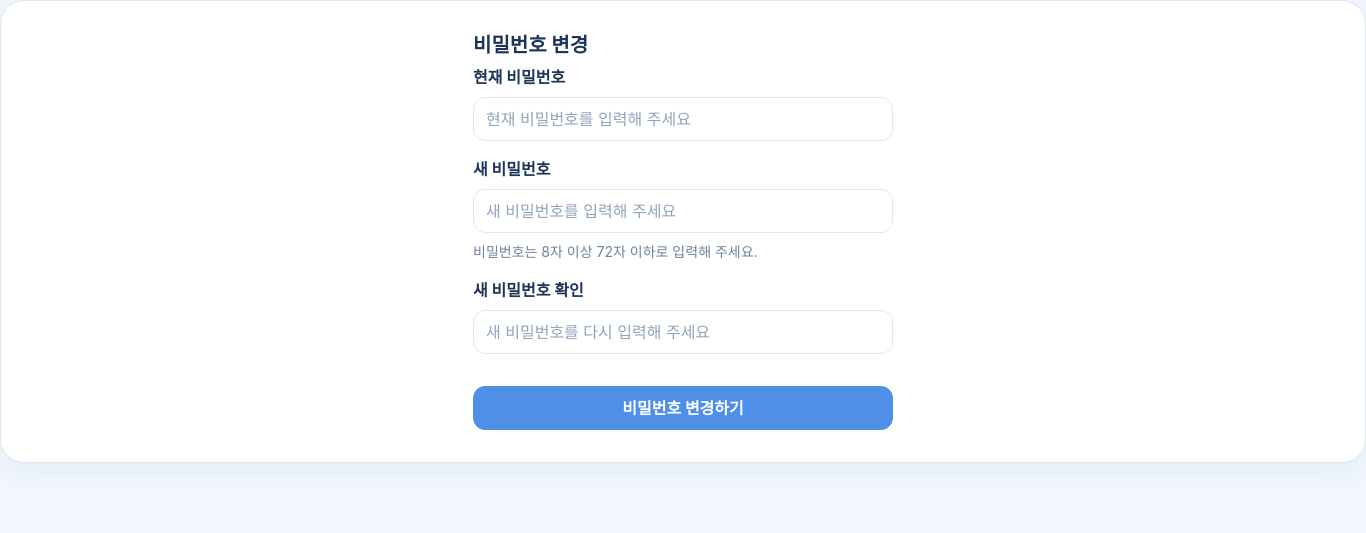
PasswordSettingsView › clears the form and shows a success alert after changing the password
In the password field with id "current-password": (683, 119) [473, 97, 893, 141], type "current-password"
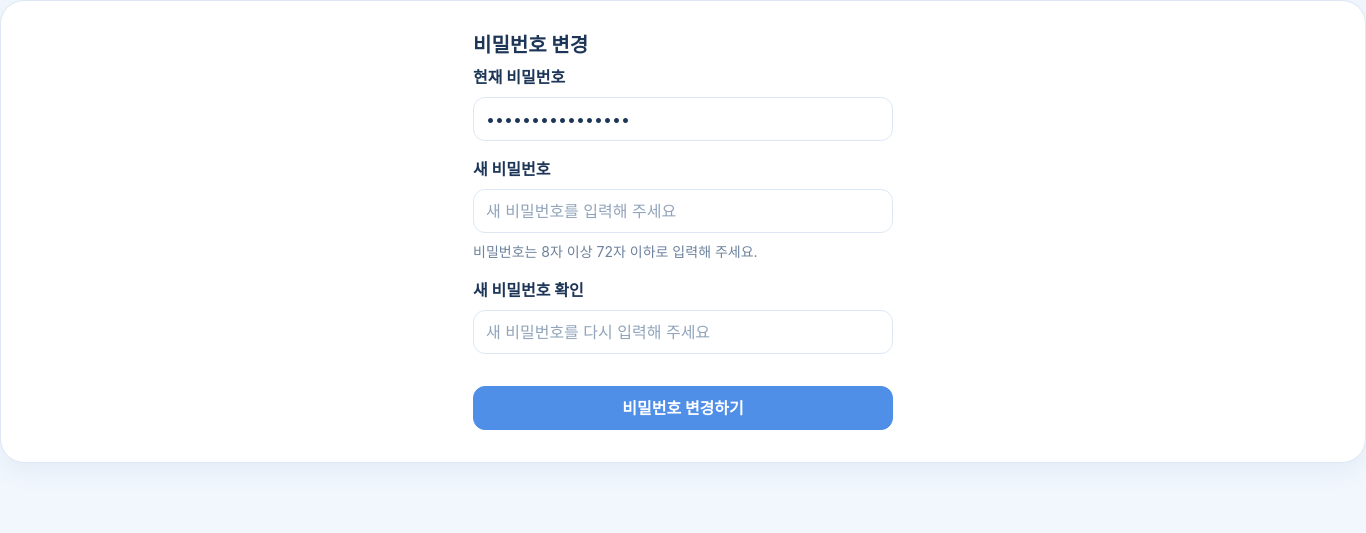
In the password field with id "new-password": (683, 211) [473, 189, 893, 233], type "new-password-123"
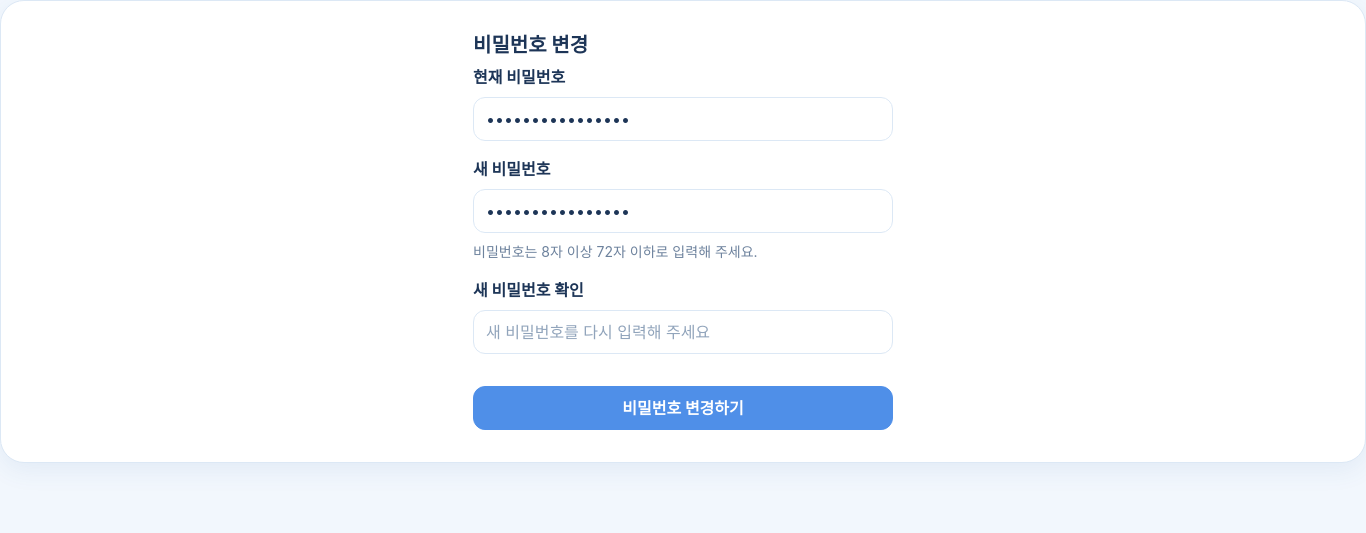
In the password field with id "new-password-confirm": (683, 332) [473, 310, 893, 354], type "new-password-123"
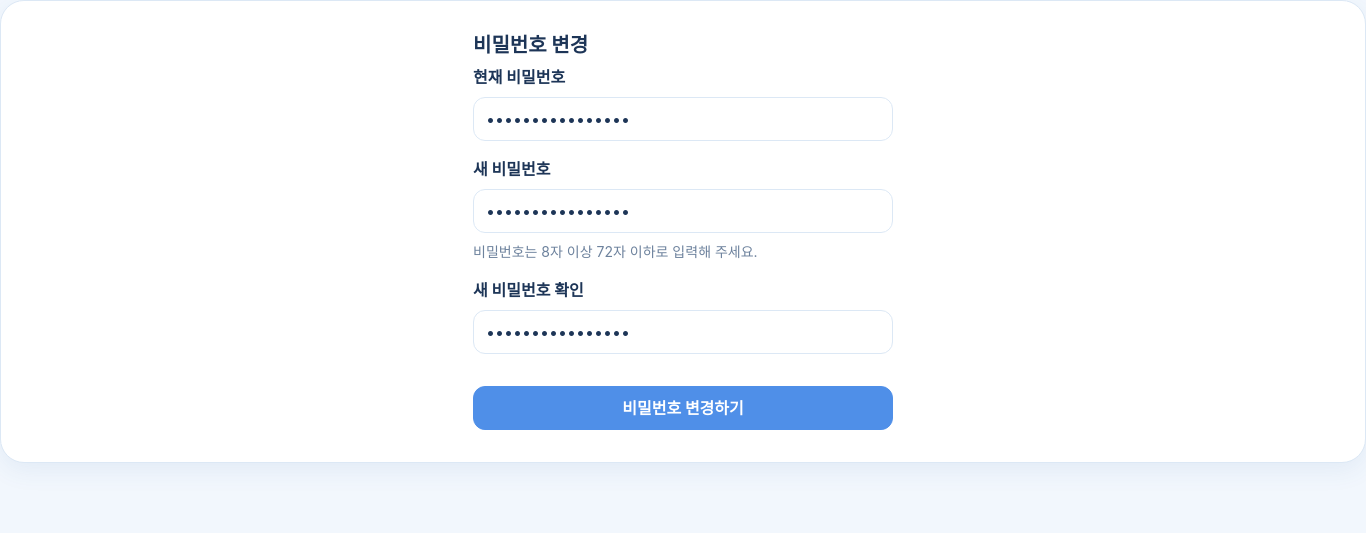
Submit the form, box [473, 65, 893, 430]
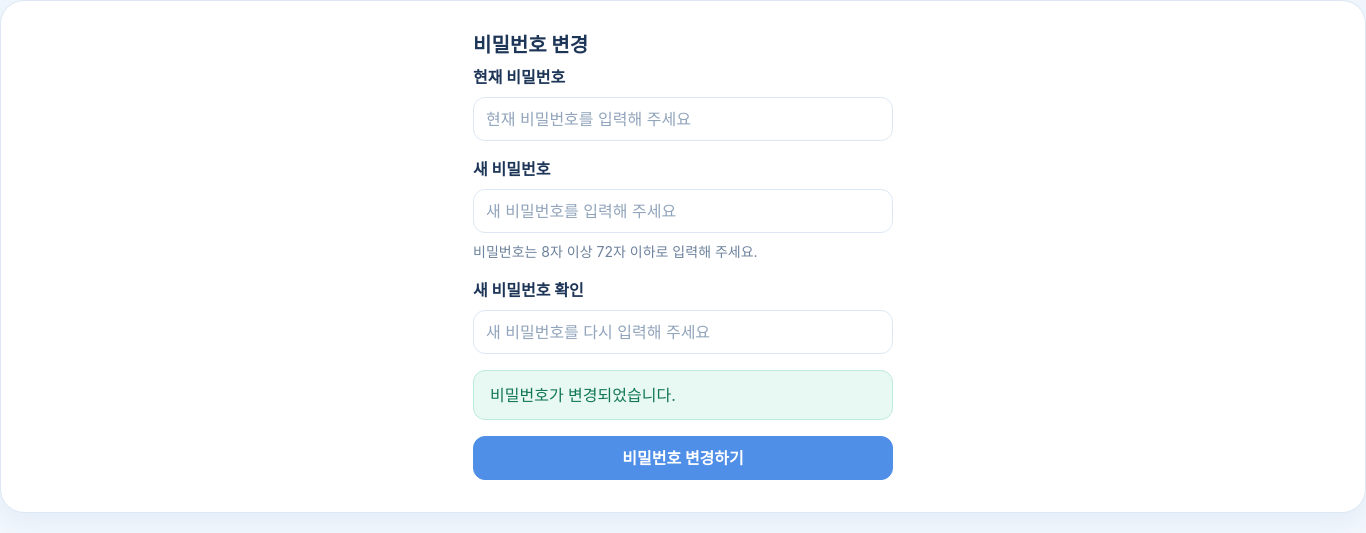
Now the message "비밀번호가 변경되었습니다." is shown, box [473, 370, 893, 420]
Now the password field with id "current-password" is empty, box [473, 97, 893, 141]
Now the password field with id "new-password" is empty, box [473, 189, 893, 233]
